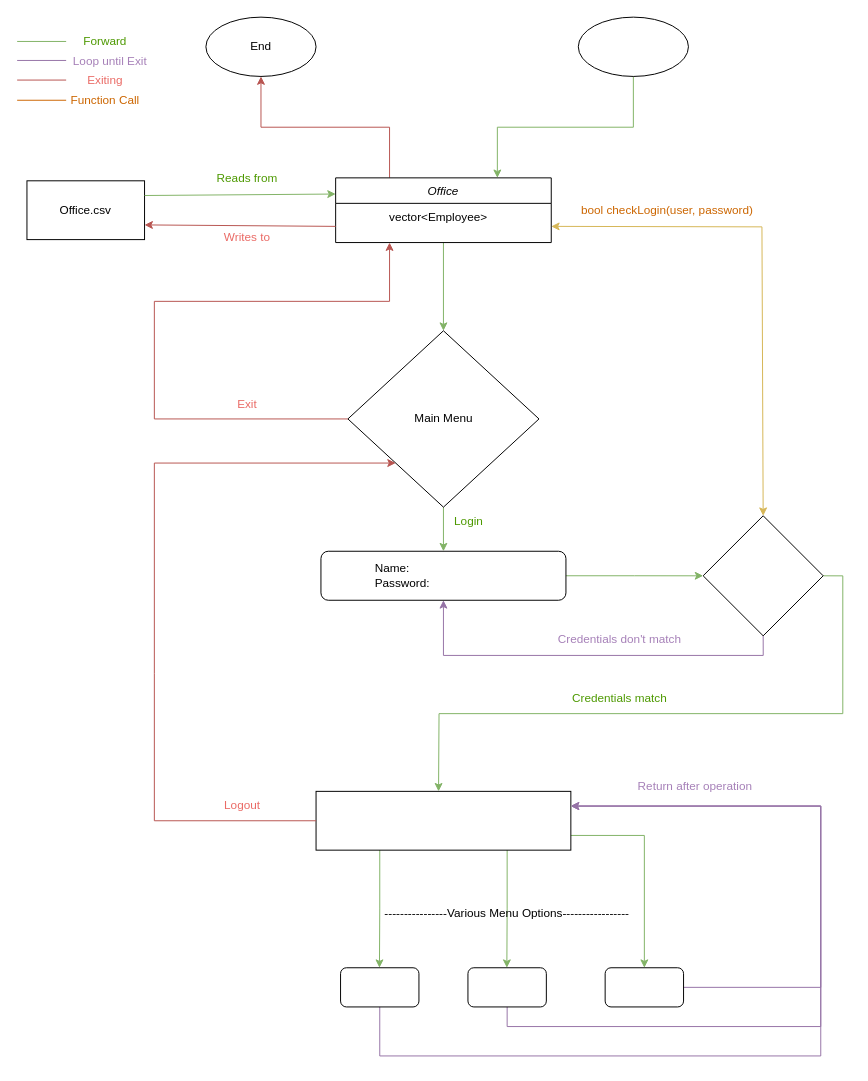
Image size: 868x1081. Some labels were removed from this diagram. The box of each missing label's shape, as (x1, y1, x2, y2) in pixels:
Check Login Info: (702, 515, 823, 636)
Personal Menu after Login: (315, 790, 571, 850)
Start: (577, 16, 688, 76)
